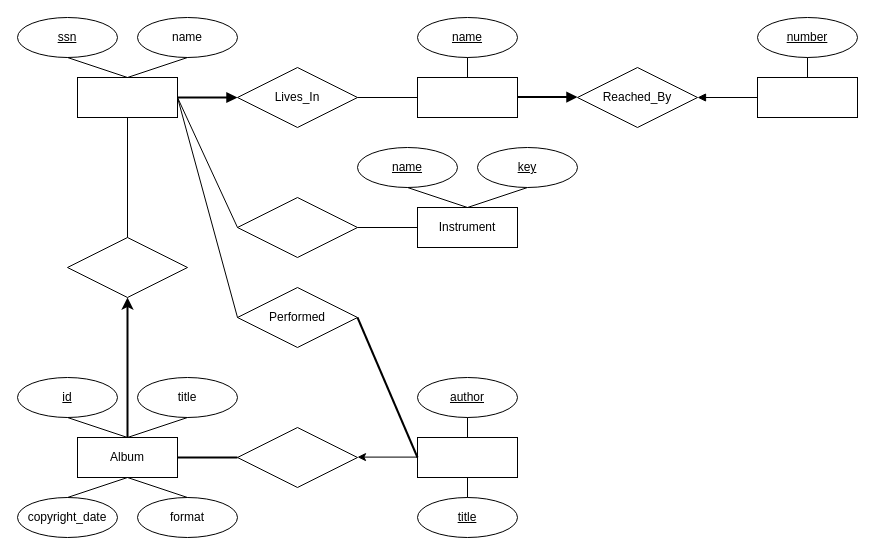
The diagram is 875 pixels wide and 555 high, and some of its shapes have lost their labels. Each missing label, with the centre of its shape:
"Address" goes at point (467, 97).
"Contains" goes at point (297, 457).
"Musician" goes at point (127, 97).
"Phone" goes at point (807, 97).
"Plays" goes at point (297, 227).
"Produced" goes at point (127, 267).
"Song" goes at point (467, 457).
